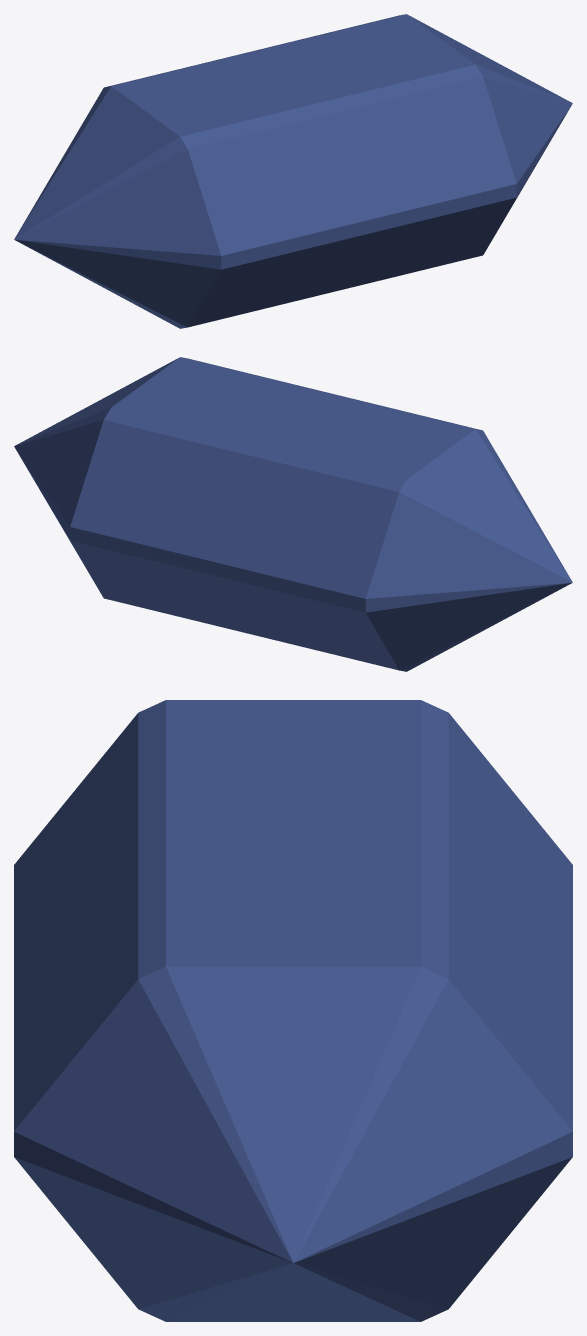
The model's file is rough-sapphire-fb25c7.glb.
The picture shows the model from 3 angles, top to bottom: view 1: azimuth 30°, elevation 25°; view 2: azimuth 150°, elevation 25°; view 3: azimuth 270°, elevation 25°; orthographic projection. The views are drawn at different scales.
Parts seen in each view (by area): view 1: crystal; view 2: crystal; view 3: crystal.
Part boxes in pixels (left/top/right/bottom): crystal: left=14, top=14, right=572, bottom=328; crystal: left=14, top=357, right=572, bottom=671; crystal: left=14, top=700, right=572, bottom=1321.
Bounding box in the file's own units: 0.14 × 0.046 × 0.0656.
